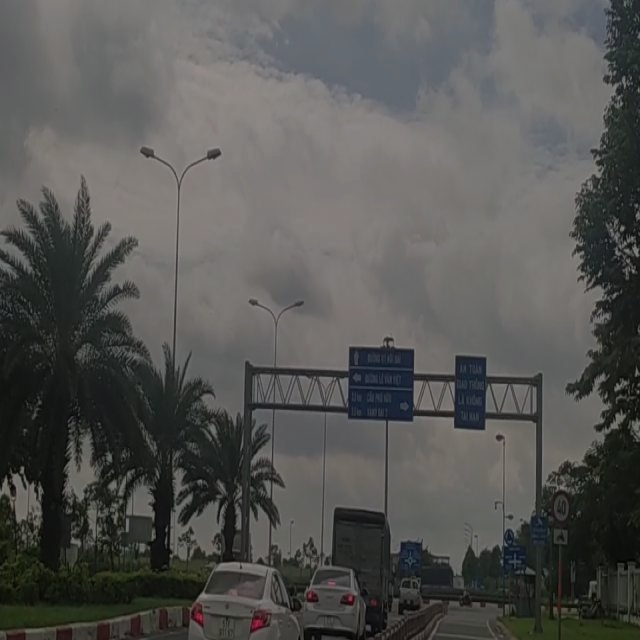P.127*40: (551, 491, 571, 524)
S.505a*Xe may: (552, 525, 570, 547)
